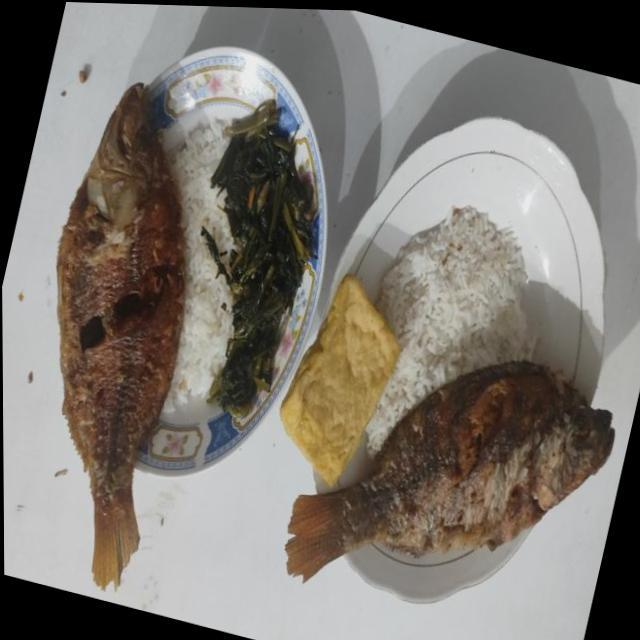ikan_mujair: (284, 360, 614, 580), (56, 84, 185, 588)
nasi_putih: (364, 205, 536, 456), (162, 116, 234, 413)
tahu_goreng: (280, 274, 400, 484)
tumis_kangkung: (200, 98, 318, 416)
